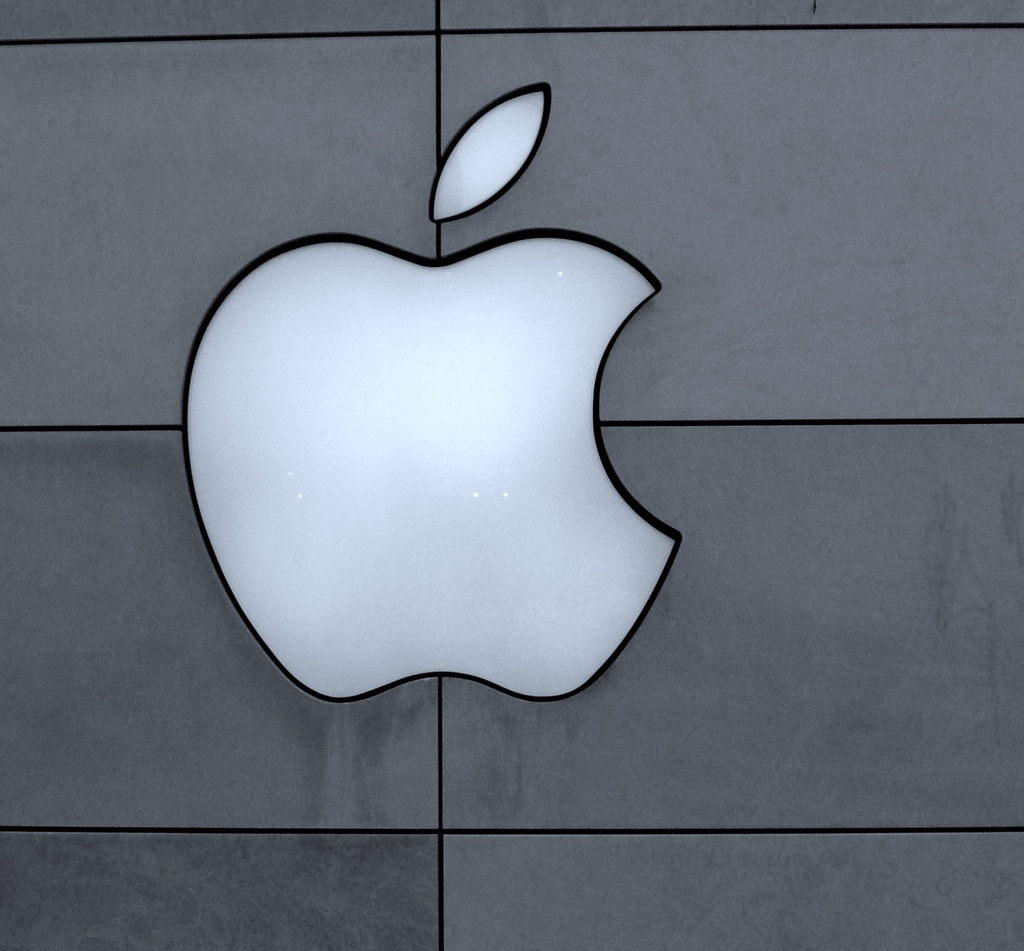Apple: (229, 128, 696, 690)
